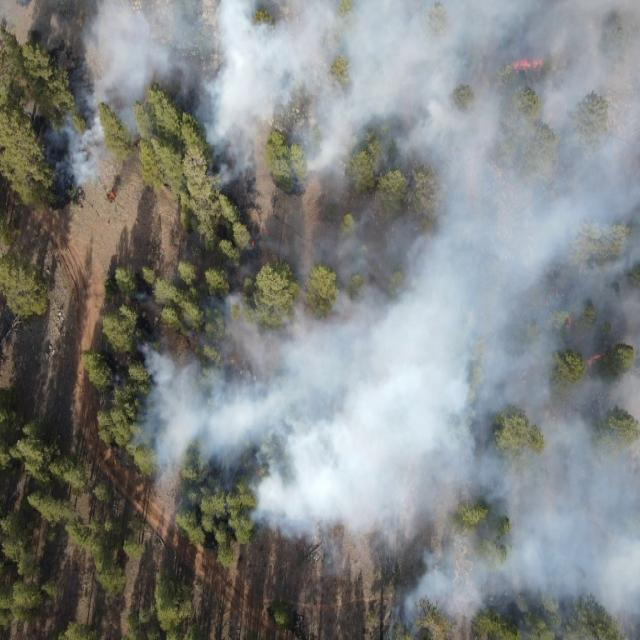fire: (510, 57, 549, 74), (587, 350, 607, 370), (565, 314, 577, 334), (106, 192, 115, 202), (248, 238, 256, 248)
smoke: (394, 1, 640, 640), (242, 268, 393, 574), (37, 0, 395, 111), (192, 112, 394, 198), (182, 292, 242, 524), (261, 200, 393, 268), (129, 337, 183, 503), (44, 113, 104, 195), (116, 112, 149, 136), (131, 292, 152, 302)
